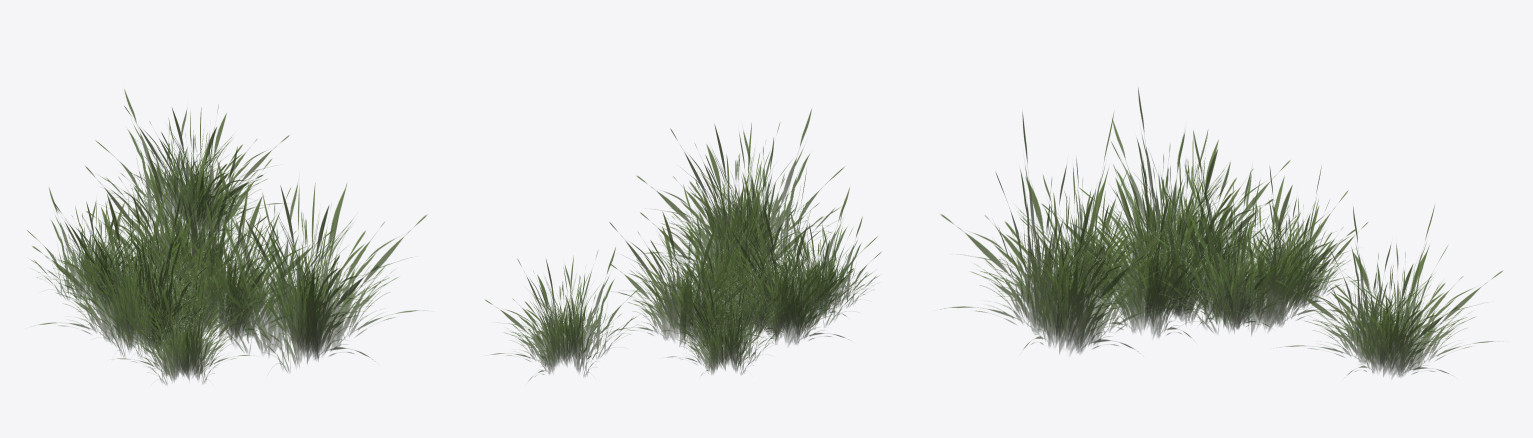
Rendered from Grass_02.glb.
The picture shows the model from 3 angles, left to right: view 1: azimuth 30°, elevation 25°; view 2: azimuth 150°, elevation 25°; view 3: azimuth 270°, elevation 25°; orthographic projection. The views are drawn at different scales.
Visible parts, largest first — view 1: unnamed; view 2: unnamed; view 3: unnamed.
Part boxes in pixels (left/top/right/bottom): unnamed: left=27, top=89, right=426, bottom=384; unnamed: left=485, top=109, right=881, bottom=381; unnamed: left=940, top=88, right=1502, bottom=377.
Size of the model in its own units: 3.12 by 2.39 by 4.49.
1 material, 1 textured.
